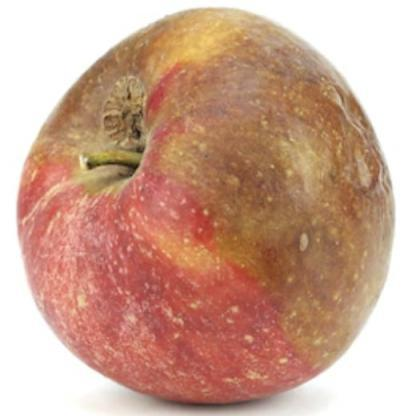apple_rotten: (11, 3, 402, 408)
